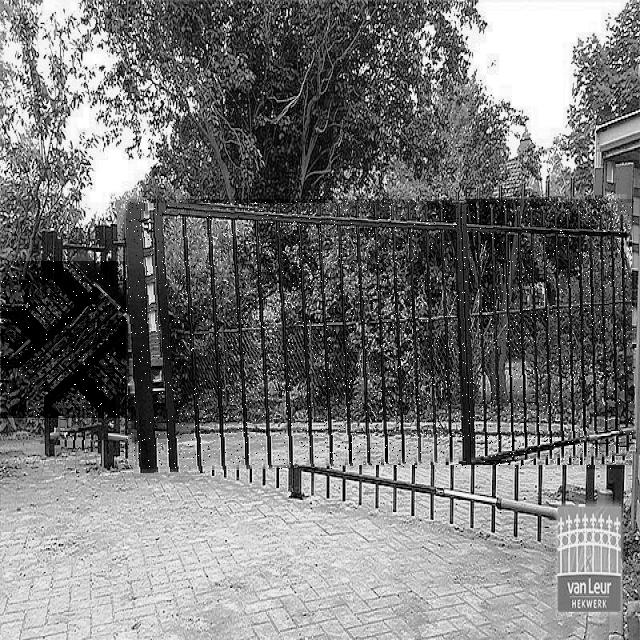fences: (126, 199, 634, 469), (1, 261, 157, 418)
